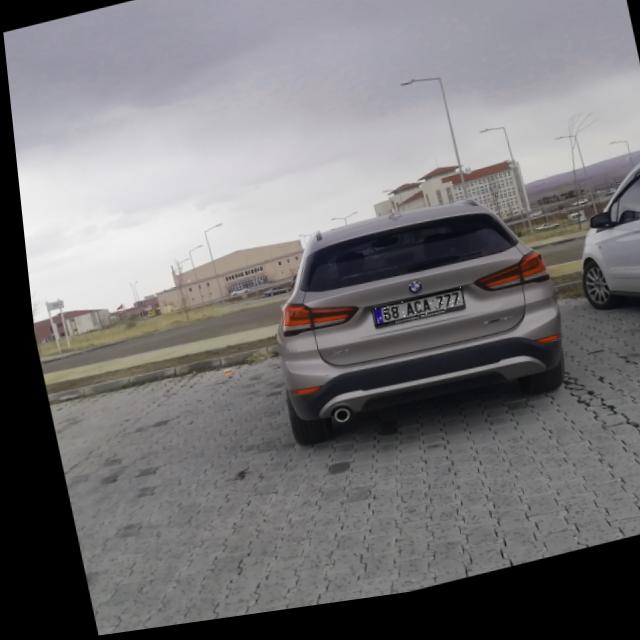license_plate: (363, 299, 458, 337)
